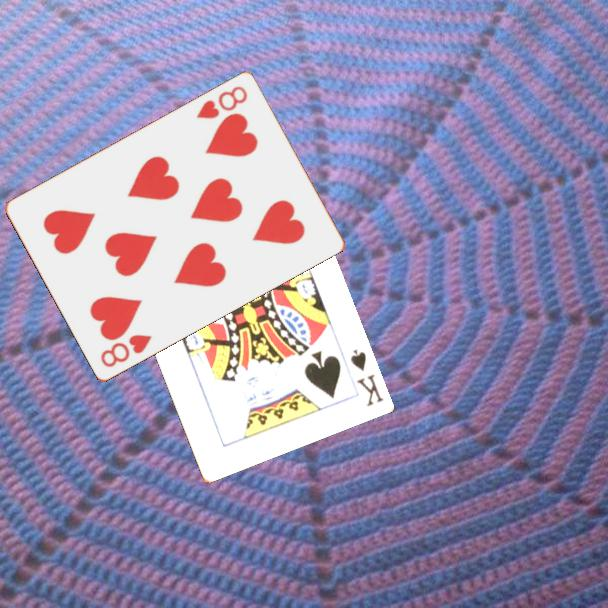h08: (97, 330, 155, 370), (193, 82, 251, 121)
s13: (346, 346, 386, 409)
